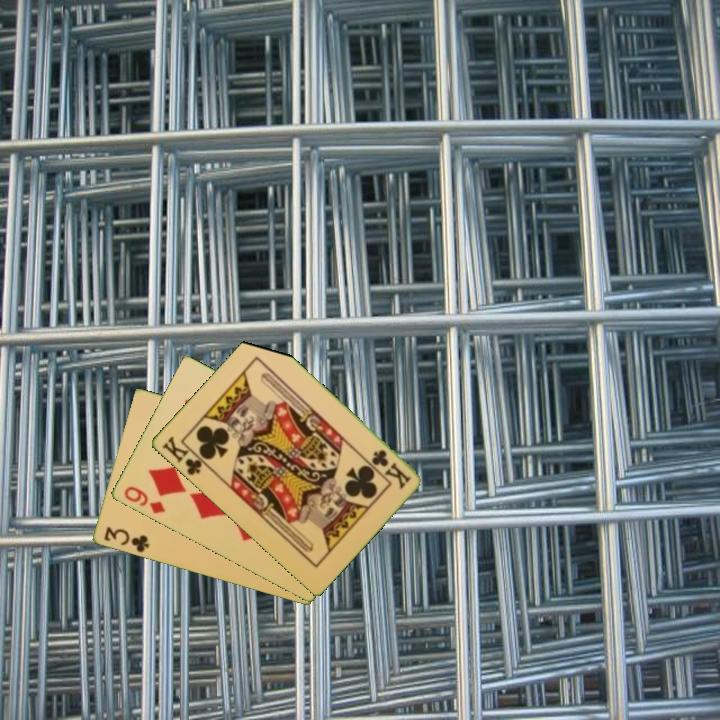3c: (100, 523, 152, 556)
9d: (120, 483, 167, 517)
Kc: (158, 432, 210, 479), (367, 446, 414, 491)
